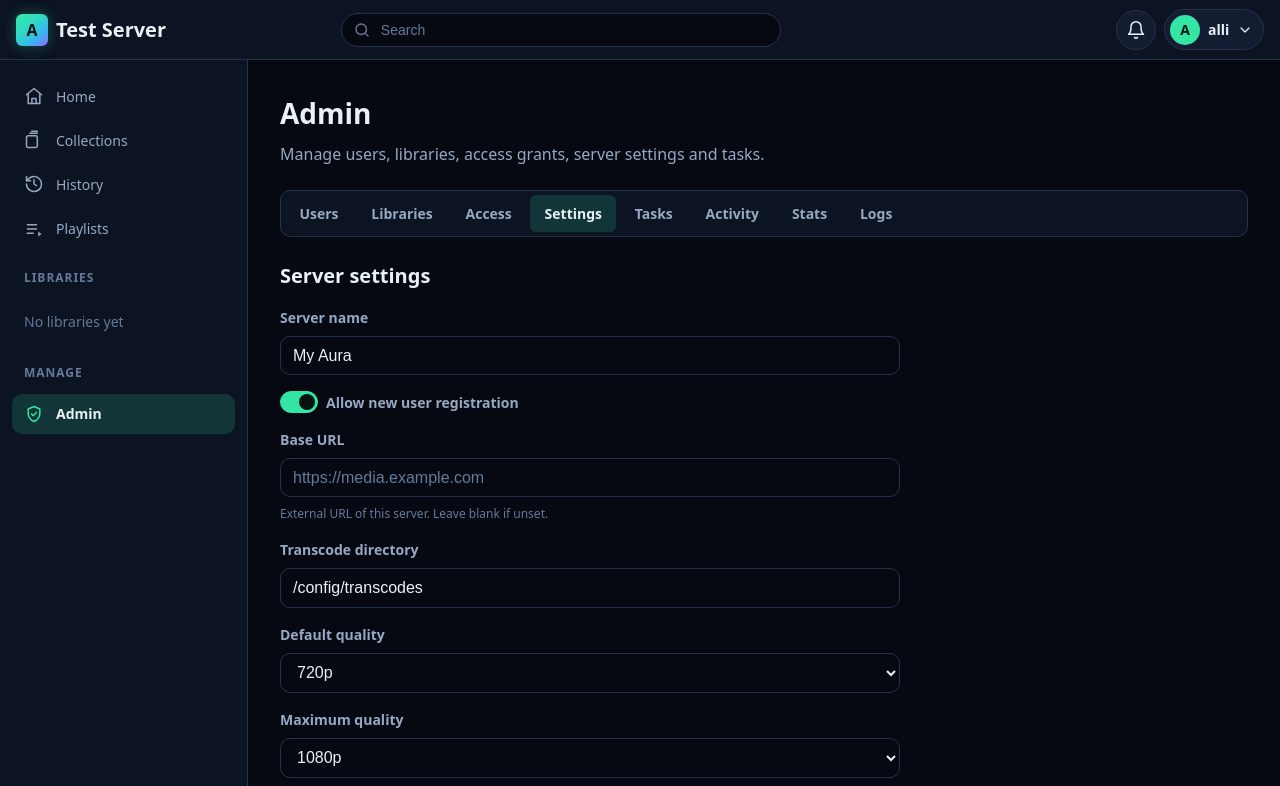
AdminSettingsPage › saves only the changed fields via PATCH
Replace the text in the field labelled "Server name" with "Renamed Aura" at (590, 356), box [280,336,900,375]
(page scrolled)
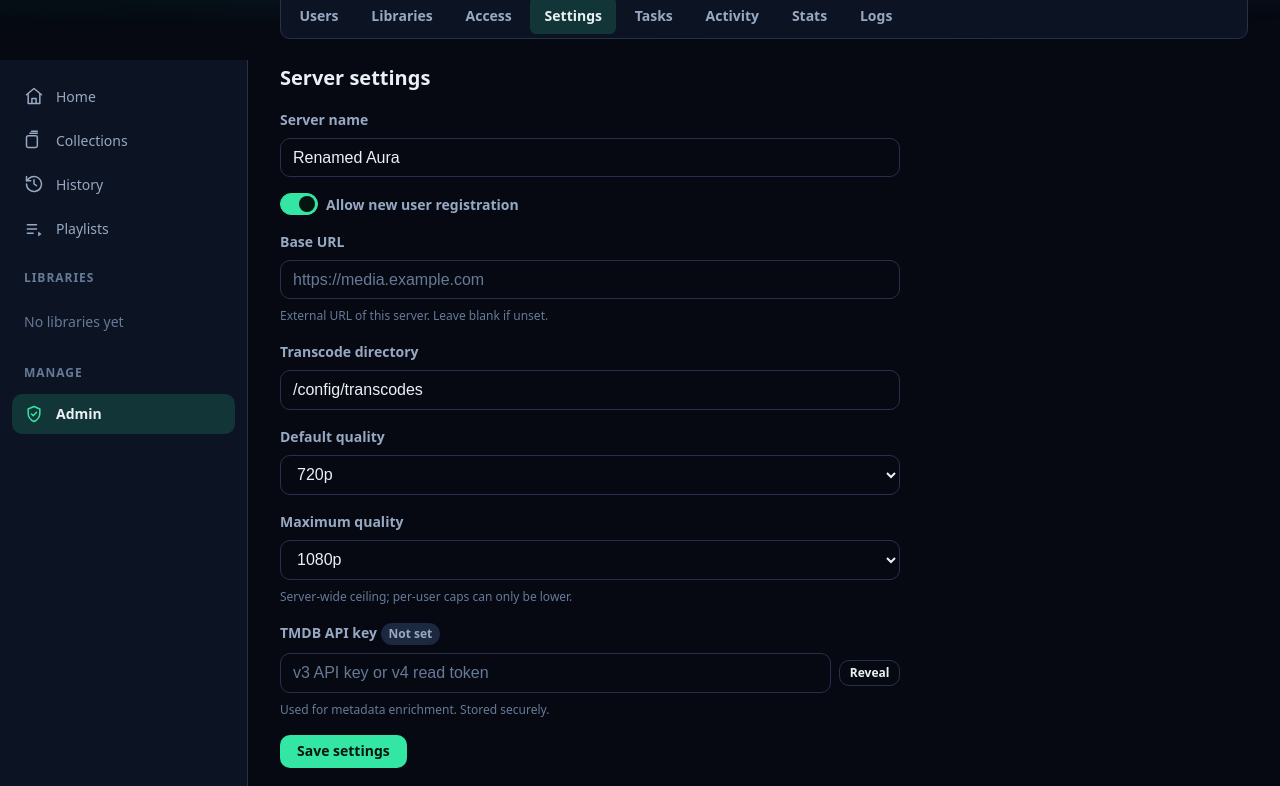
Click the button "Save settings" at (343, 751), box [280,734,407,768]
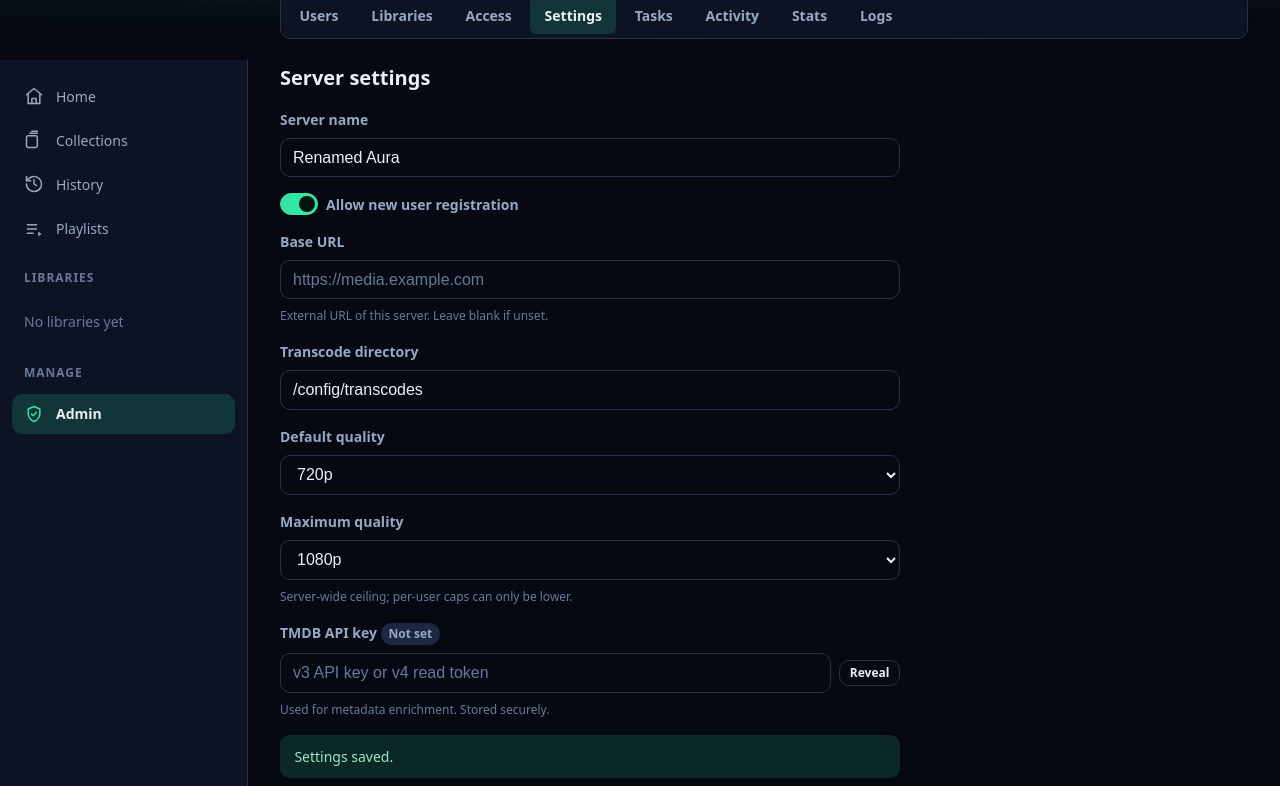
Expected: the text "Settings saved." is shown, [280,734,900,778]
